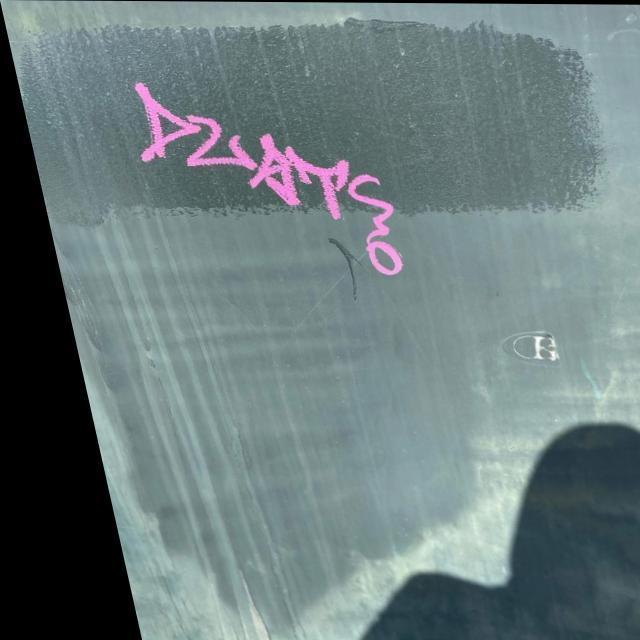-: (104, 26, 418, 300)
